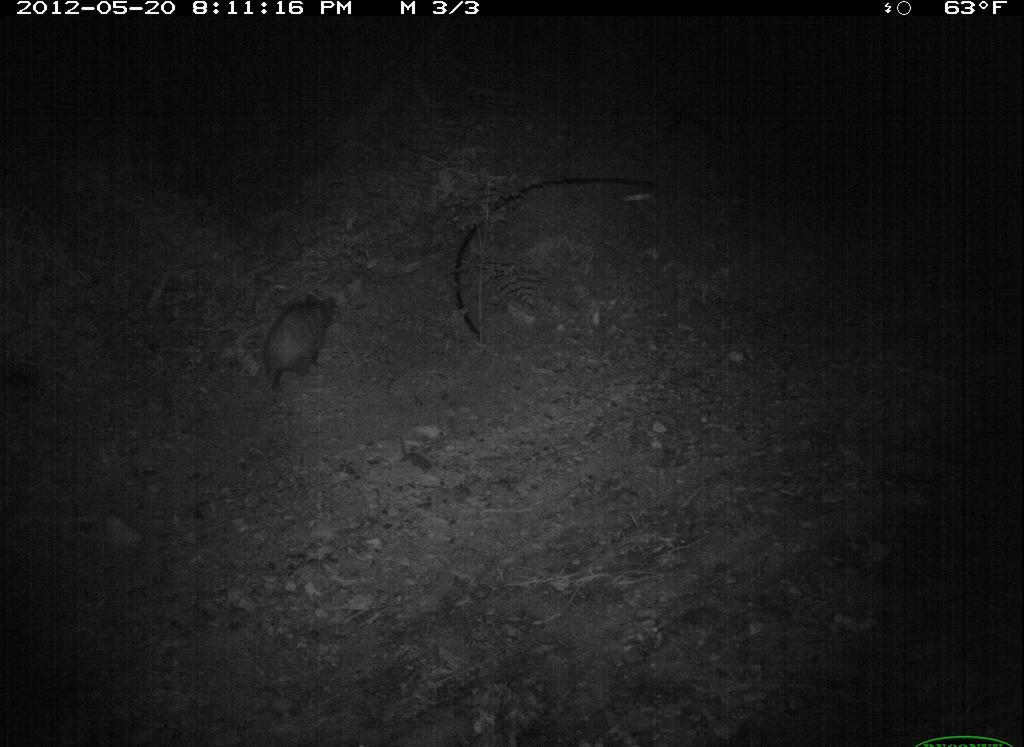opossum: (253, 290, 353, 391)
